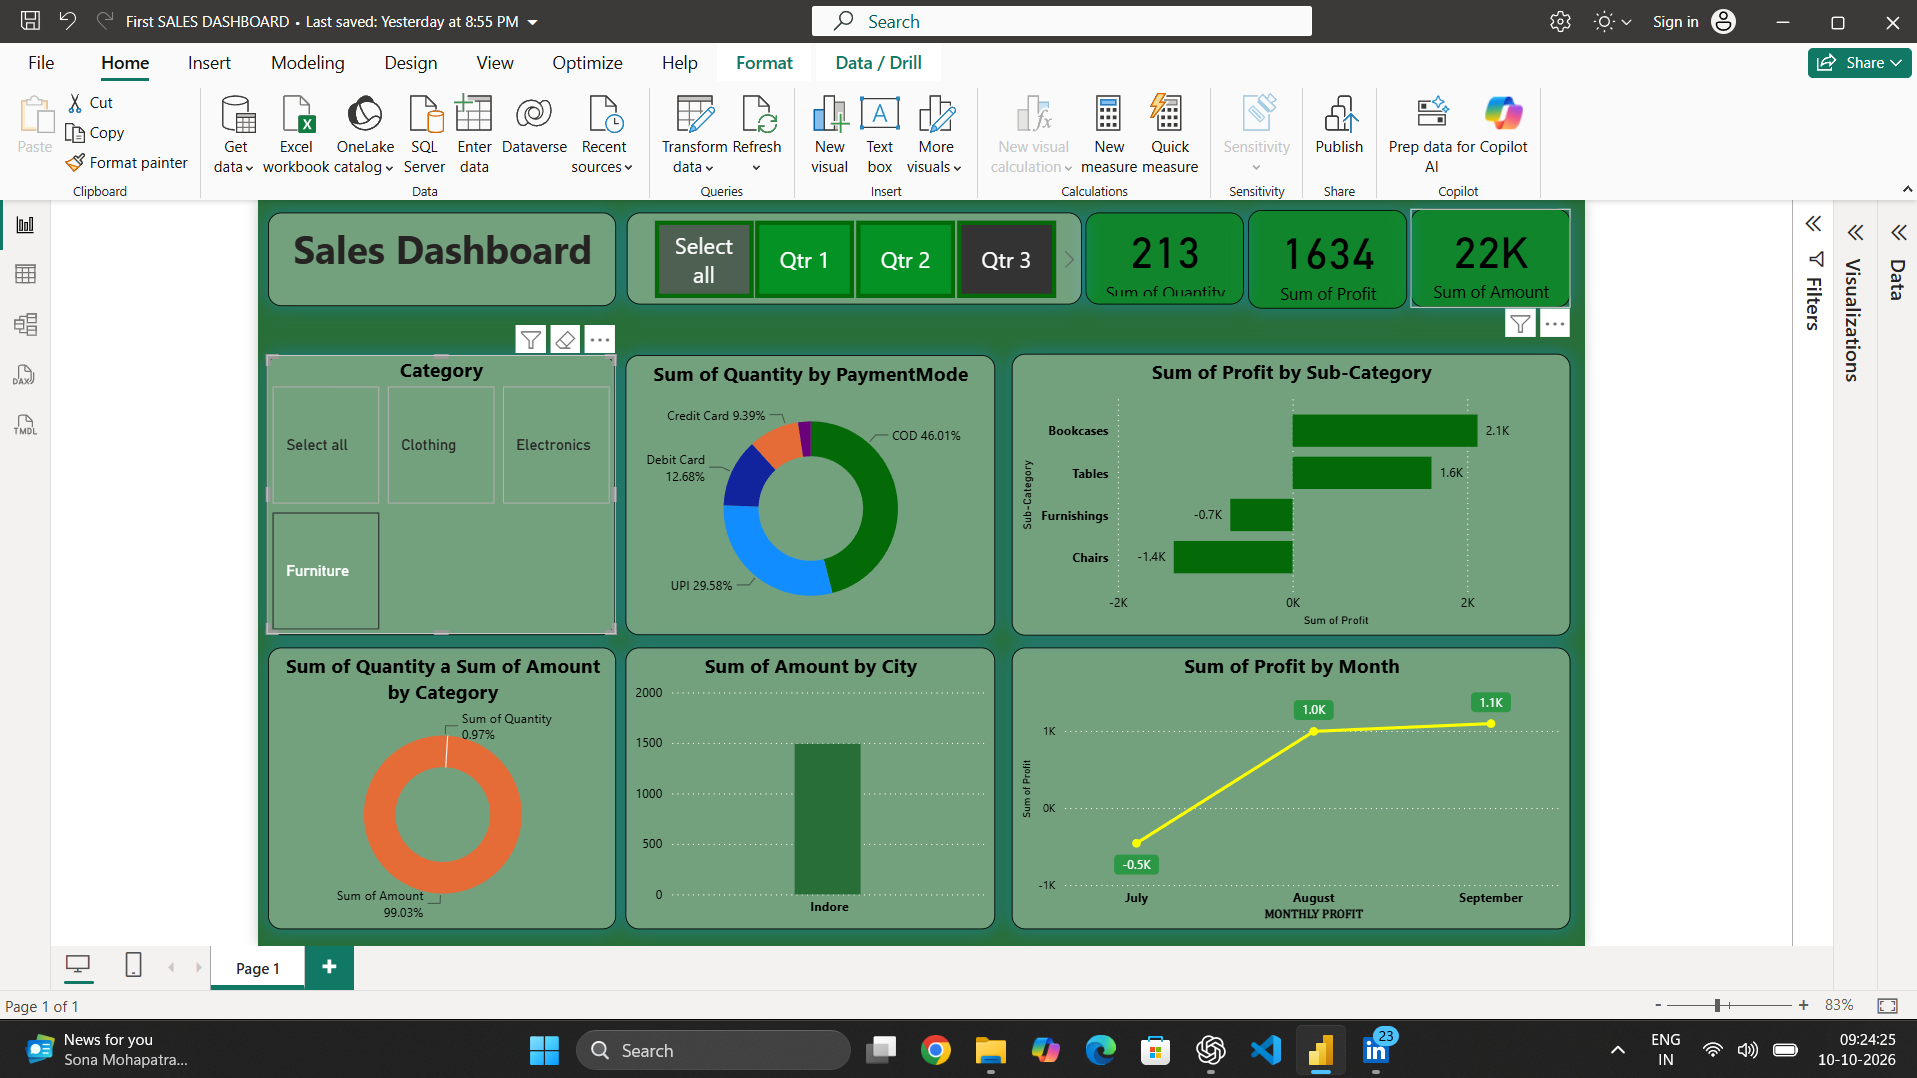

What the dashboard file says about the page in this screenshot:
{"tool":"powerbi","page":{"name":"Page 1","canvas":[1280,720],"ordinal":0},"visuals":[{"type":"textbox","box":[9.7,12.3,335.9,90.8],"z":0},{"type":"lineChart","fields":{"Category":["Orders.Order Date.Variation.Date Hierarchy.Month"],"Y":["Sum(Details.Profit)"]},"box":[727.7,431.8,539.4,271.7],"z":1000},{"type":"barChart","fields":{"Category":["Details.Sub-Category"],"Y":["Sum(Details.Profit)"]},"box":[727.7,148,539.4,271.7],"z":2000},{"type":"donutChart","title":"Sum of Quantity a Sum of Amount by Category","fields":{"Category":["Details.Category"],"Y":["Sum(Details.Quantity)","Sum(Details.Amount)"]},"box":[9.4,431.8,336.3,271.7],"z":3000},{"type":"donutChart","fields":{"Category":["Details.PaymentMode"],"Y":["Sum(Details.Quantity)"]},"box":[355.1,149.3,356.5,270.4],"z":4000},{"type":"card","fields":{"Values":["Sum(Details.Amount)"]},"box":[1112.4,8.1,154.7,95.5],"z":5000},{"type":"card","fields":{"Values":["Sum(Details.Profit)"]},"box":[955.8,9.7,153.7,95.3],"z":6000},{"type":"card","fields":{"Values":["Sum(Details.Quantity)"]},"box":[798.9,12.3,153,88.8],"z":7000},{"type":"lineStackedColumnComboChart","fields":{"Category":["Orders.City"],"Y":["Sum(Details.Amount)"]},"box":[355.1,431.8,356.5,271.7],"z":8000},{"type":"slicer","fields":{"Values":["Orders.Order Date.Variation.Date Hierarchy.Quarter"]},"box":[355.3,12.3,439,88.8],"z":9000},{"type":"advancedSlicerVisual","fields":{"Values":["Details.Category"]},"box":[9,149,336,270],"z":10000}]}

Visuals, with their boxes on the page's 1280x720 design canvas (x1, y1, x2, y2). These are canvas units, not pixel positions in the 1917x1078 screenshot, which may show the page scaled, cropped or inside an application window:
textbox: (10,12,346,103)
lineChart - Orders.Order Date.Variation.Date Hierarchy.Month x Sum(Details.Profit): (728,432,1267,704)
barChart - Details.Sub-Category x Sum(Details.Profit): (728,148,1267,420)
"Sum of Quantity a Sum of Amount by Category" donutChart: (9,432,346,704)
donutChart - Details.PaymentMode x Sum(Details.Quantity): (355,149,712,420)
card - Sum(Details.Amount): (1112,8,1267,104)
card - Sum(Details.Profit): (956,10,1110,105)
card - Sum(Details.Quantity): (799,12,952,101)
lineStackedColumnComboChart - Orders.City x Sum(Details.Amount): (355,432,712,704)
slicer - Orders.Order Date.Variation.Date Hierarchy.Quarter: (355,12,794,101)
advancedSlicerVisual - Details.Category: (9,149,345,419)
